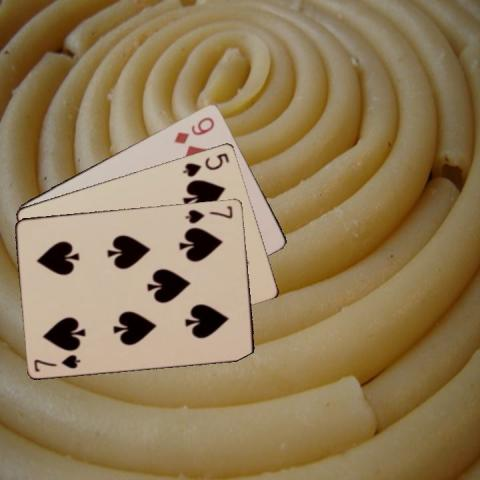5s: (179, 149, 232, 178)
7s: (182, 202, 235, 224), (31, 351, 82, 373)
9d: (171, 114, 216, 146)
